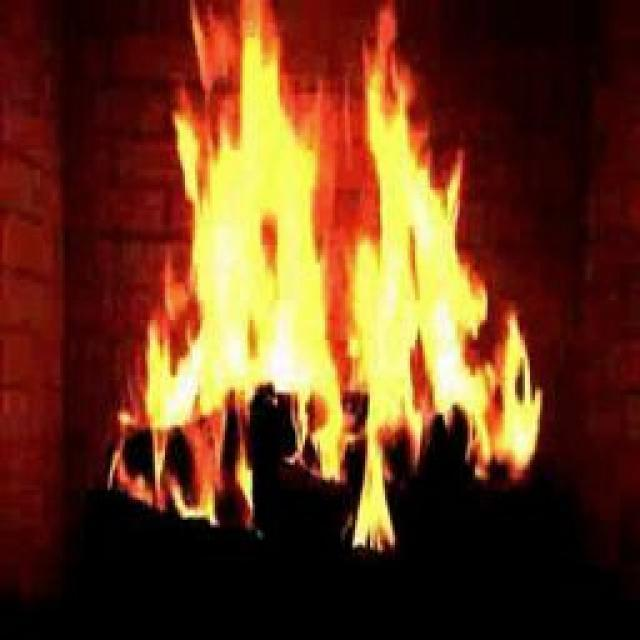Fire: (156, 26, 534, 460)
